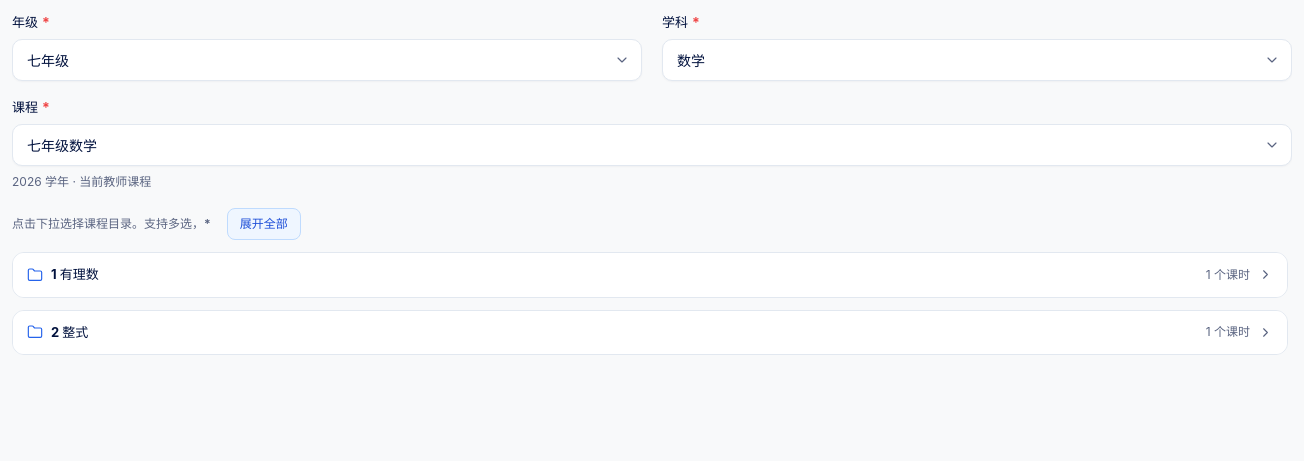
StartClassCourseStep › keeps chapters collapsed until the teacher opens one
Check: the text "1.1 正数和负数" is not shown
What coordinates should you click on to do the following:
click the button "1 有理数 1 个课时"
I would click on:
 (79, 274)
Its box is [13, 253, 1287, 296].
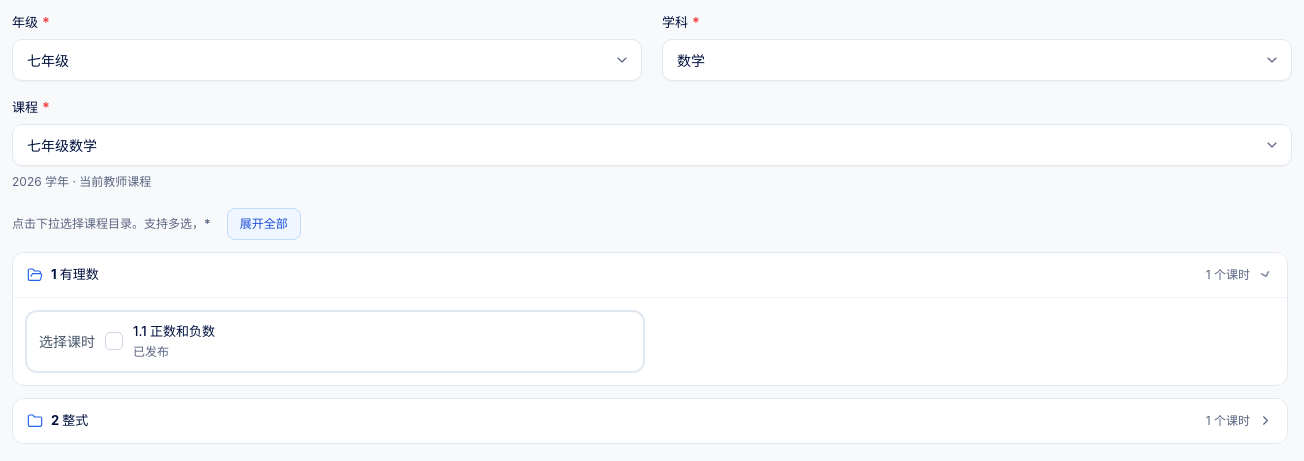
Check: the text "1.1 正数和负数" is shown, box [133, 322, 215, 338]
